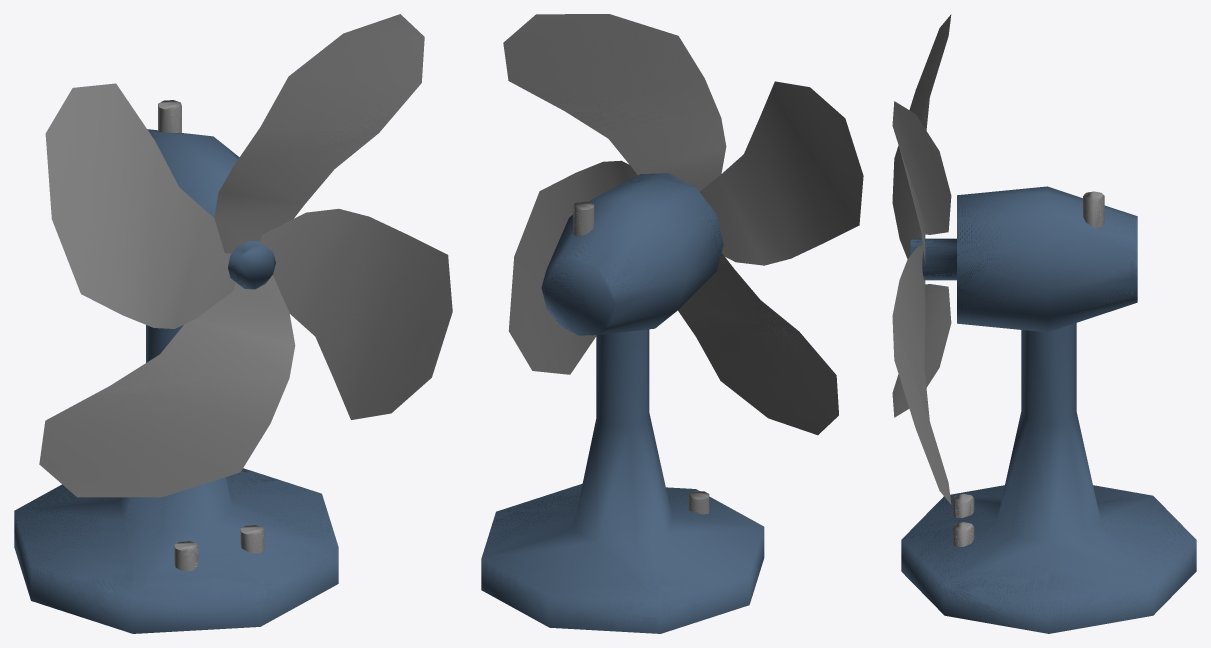
File: desk-fan.glb
The picture shows the model from 3 angles, left to right: view 1: azimuth 30°, elevation 25°; view 2: azimuth 150°, elevation 25°; view 3: azimuth 270°, elevation 25°; orthographic projection. The views are drawn at different scales.
Visible parts, largest first — view 1: desk-fan; view 2: desk-fan; view 3: desk-fan.
Boxes of the visible parts, <box> form: desk-fan: <box>14,14,452,633</box>; desk-fan: <box>481,14,863,633</box>; desk-fan: <box>892,14,1196,633</box>.
Size of the model in its own units: 0.297 by 0.4 by 0.222.
